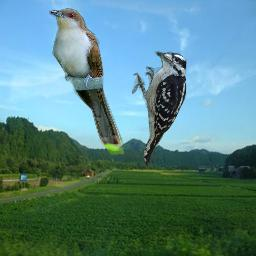Cuckoo: (49, 8, 124, 155)
Woodpecker: (132, 50, 194, 166)
